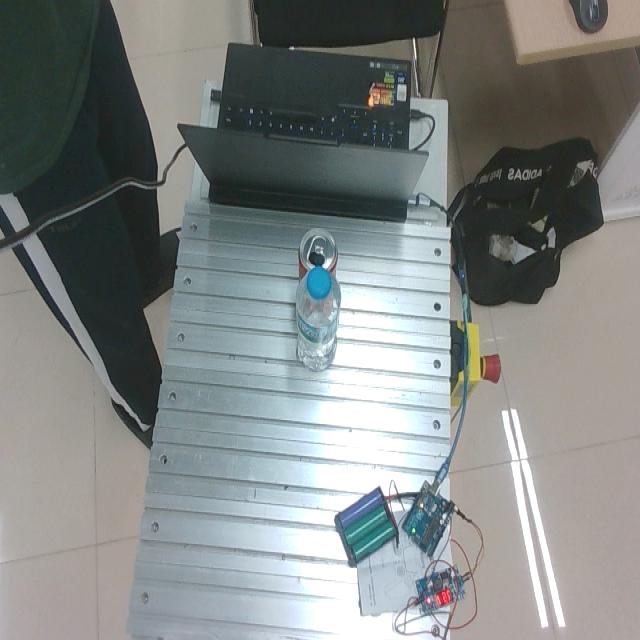coca: (298, 228, 338, 281)
lavie: (295, 261, 341, 372)
